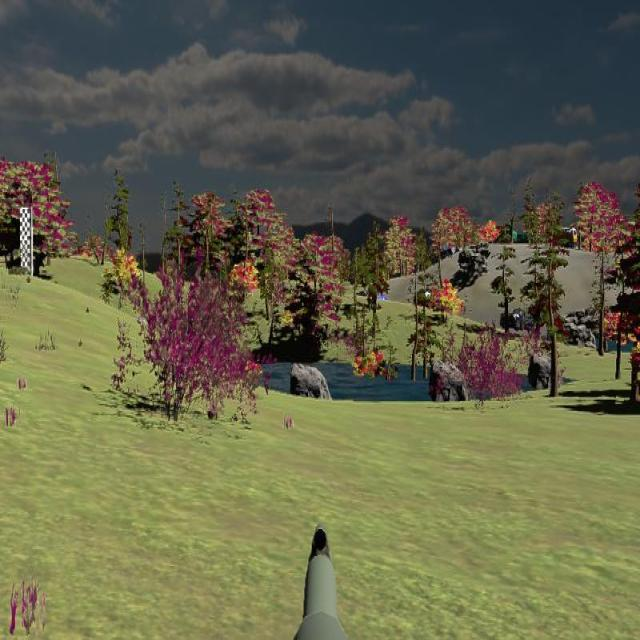Human: (629, 339, 640, 403)
